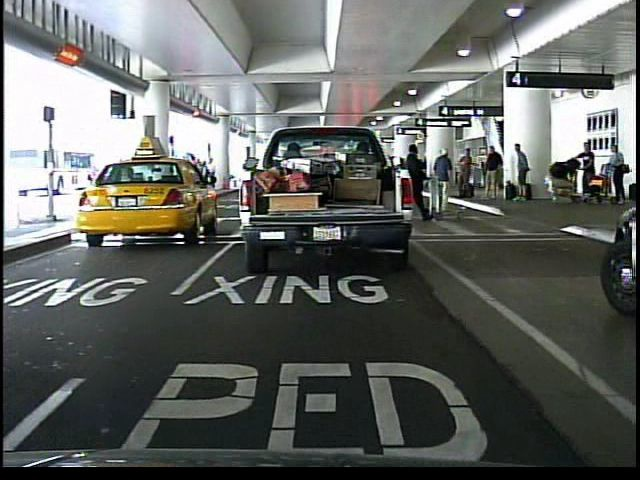person: (397, 139, 434, 222), (430, 146, 456, 216), (603, 142, 629, 211), (579, 141, 597, 180)
